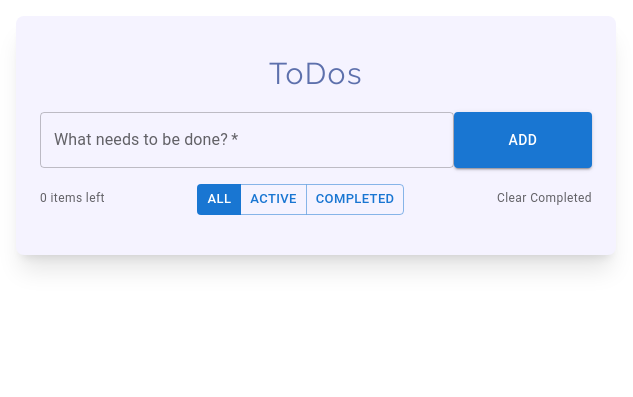
Test: App component › filters the list by active items
The width and height of the screenshot is (633, 397).
Type "New item 1" into the field at (247, 140), box [40,112,454,168]
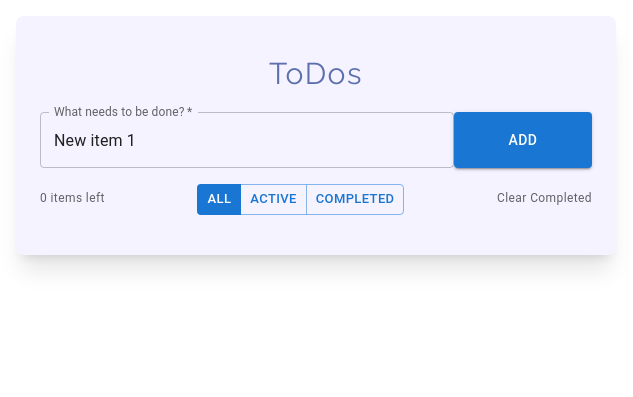
Click the button "Add" at (523, 140), box [454,112,592,168]
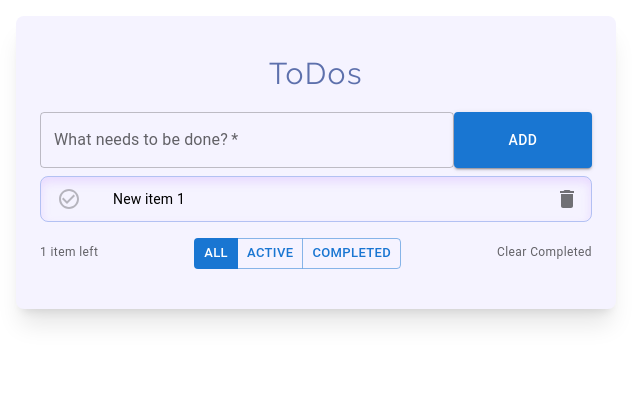
Type "New item 2" into the field at (247, 140), box [40,112,454,168]
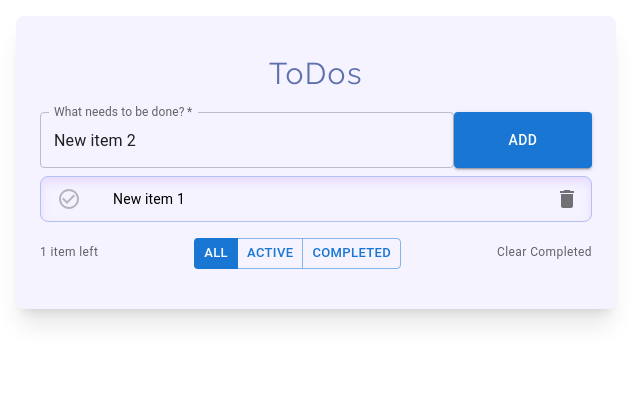
Click the button "Add" at (523, 140), box [454,112,592,168]
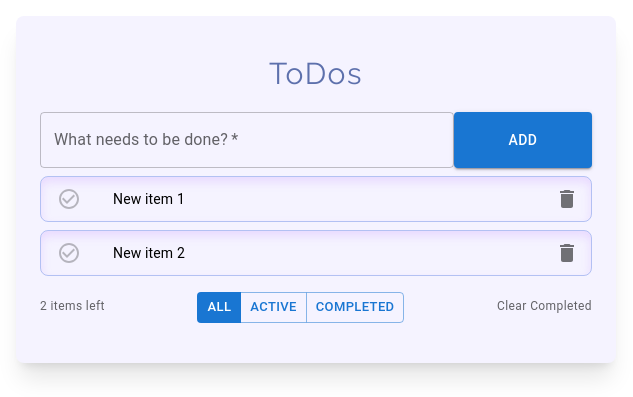
Check: the text "New item 1" is shown, box [113,191,185,207]
Check: the text "New item 2" is shown, box [113,245,185,261]
Click the 1st icon with test id "CheckCircleOutlineIcon" at (69, 199), box [57,187,81,211]
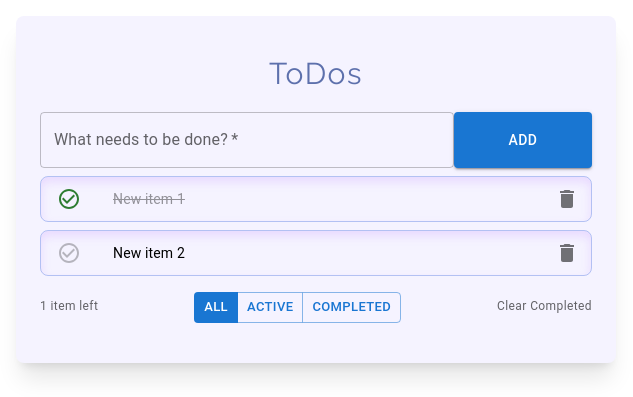
Click the button "ACTIVE" at (270, 307), box [237,292,303,323]
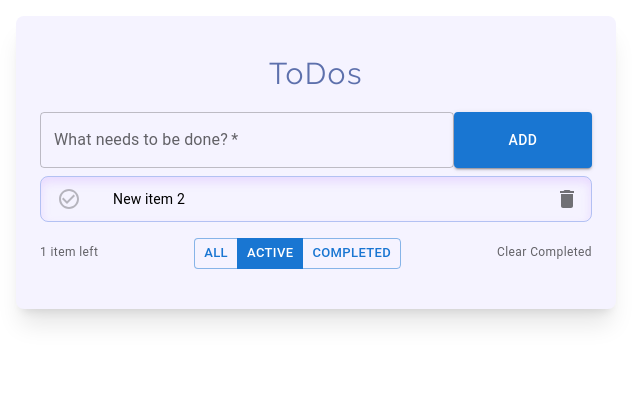
Check: the list item reads "New item 2", box [113,191,185,207]
Check: the text "New item 1" is gone
